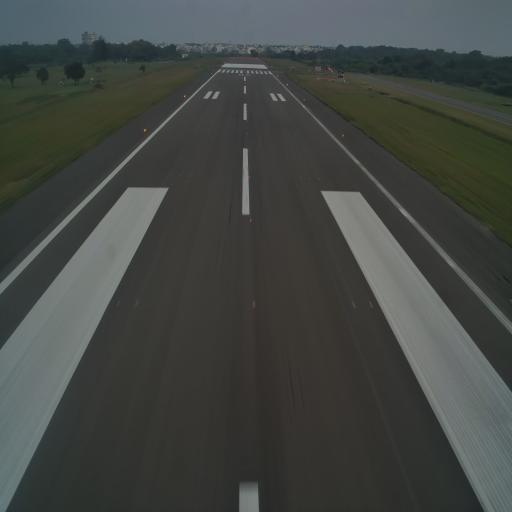off: (367, 298, 375, 313), (114, 297, 122, 310), (350, 298, 357, 311), (134, 297, 140, 308), (307, 176, 312, 182), (187, 174, 191, 180), (299, 175, 302, 182), (169, 173, 173, 178), (179, 174, 182, 180), (318, 177, 320, 182)
on: (252, 299, 256, 310), (247, 174, 251, 181), (249, 216, 252, 225)
